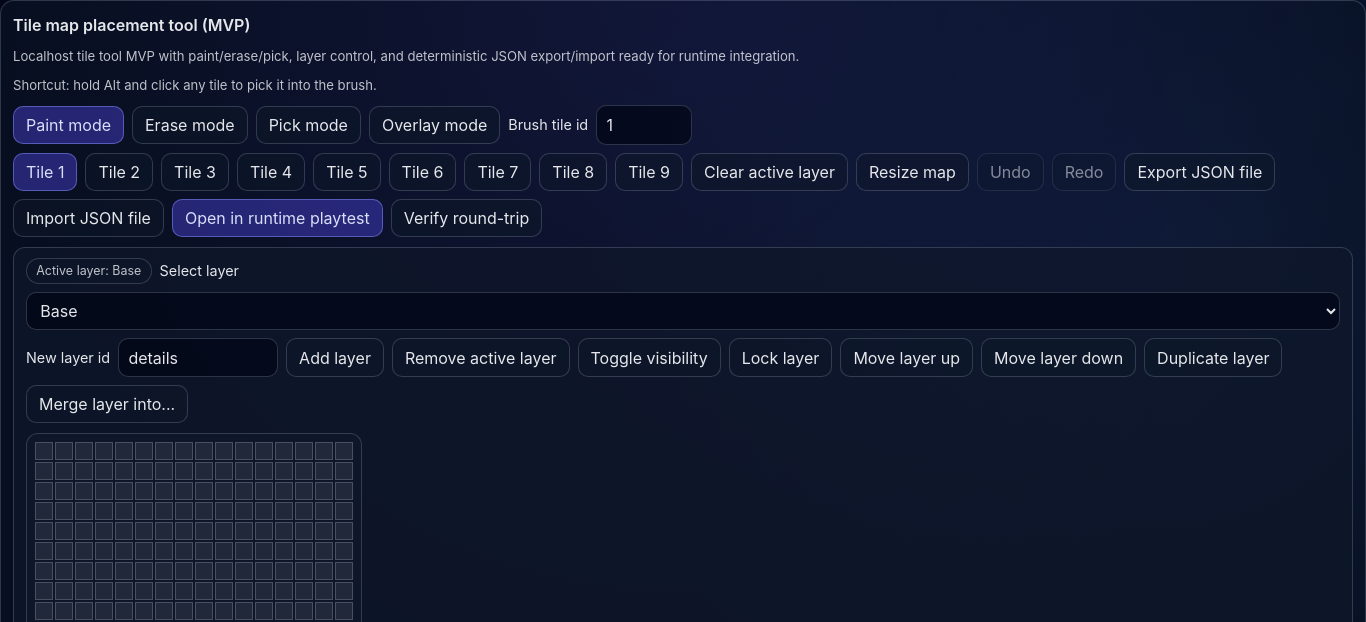
Scenario: TileMapPlacementToolExample › verifies tilemap round-trip payload without semantic drift
Click the button named "Tile (0, 0)". click: (44, 451)
box: [35,442,53,460]
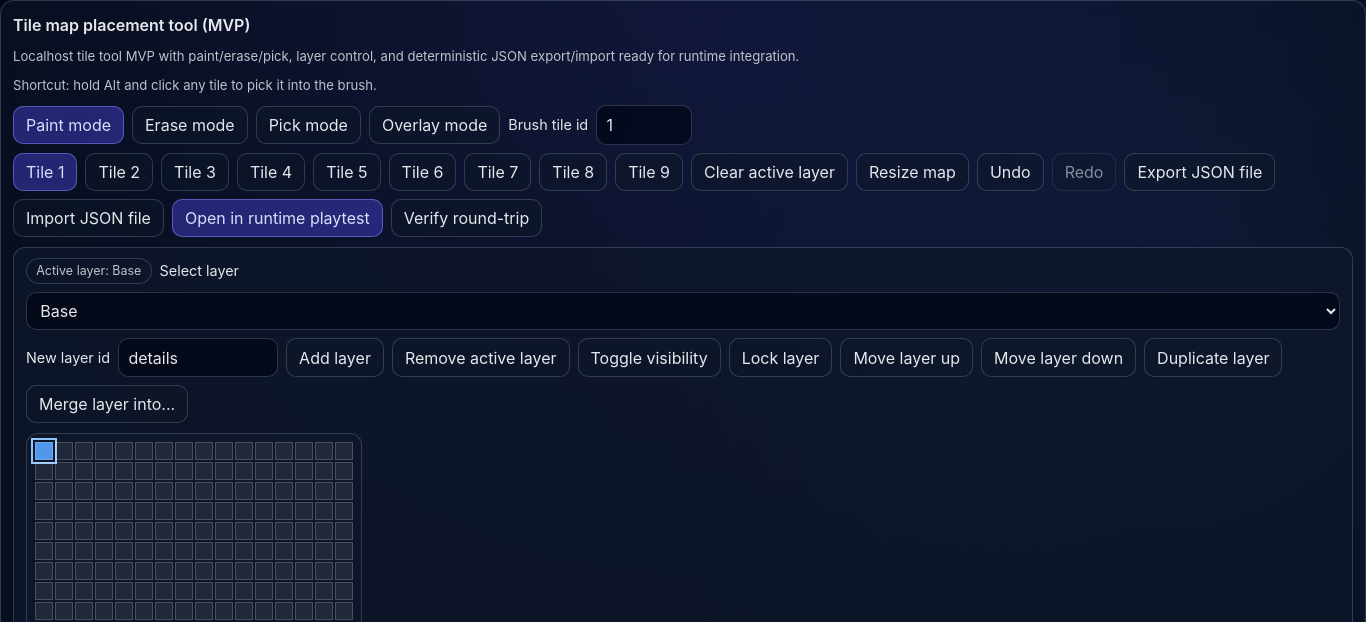
Click the button "Verify round-trip". click: (466, 218)
box: [391,199,542,237]
(page scrolled)
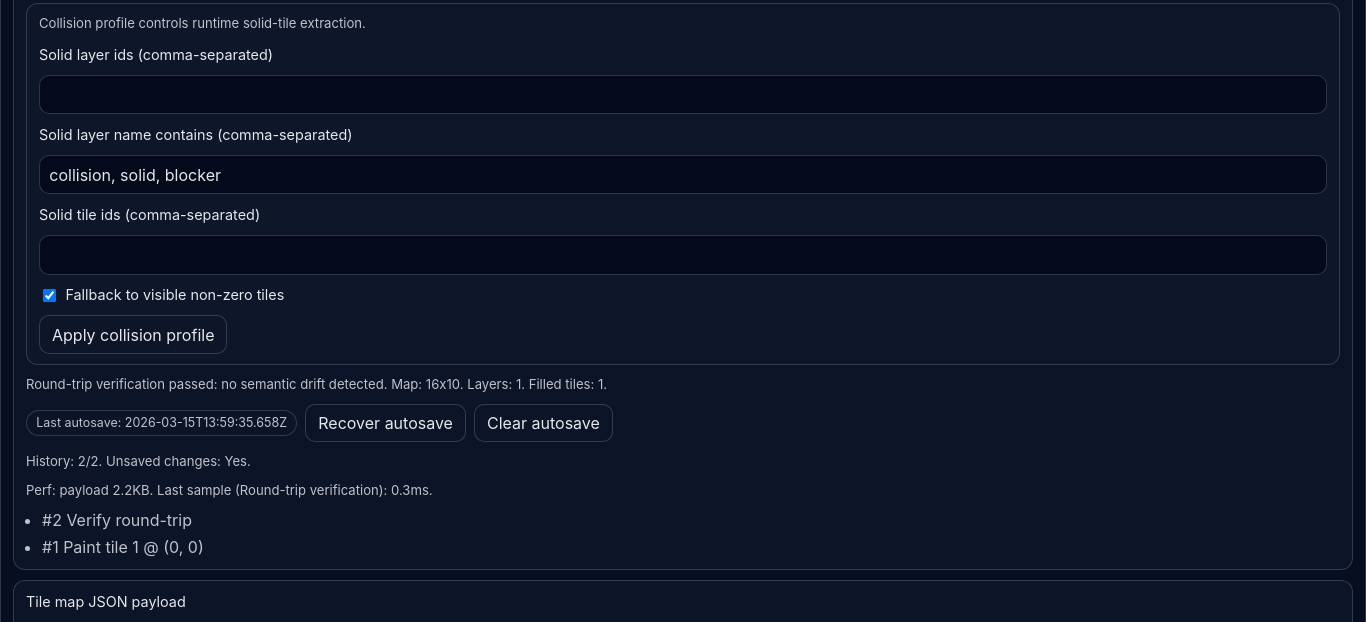
Expected: the text "Round-trip verification passed: no semantic drift detected." is shown, [26,376,388,392]
